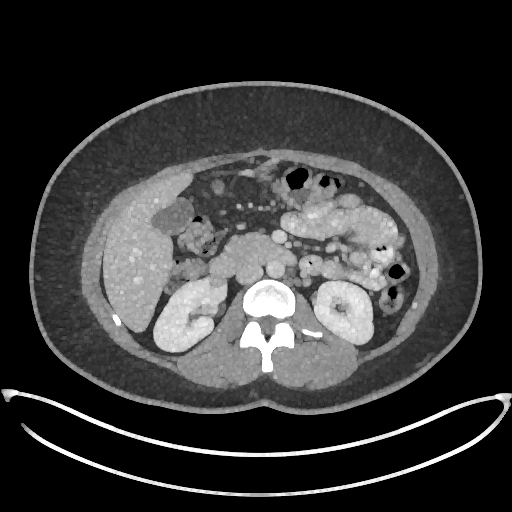Lesion: (204, 271, 229, 292)
